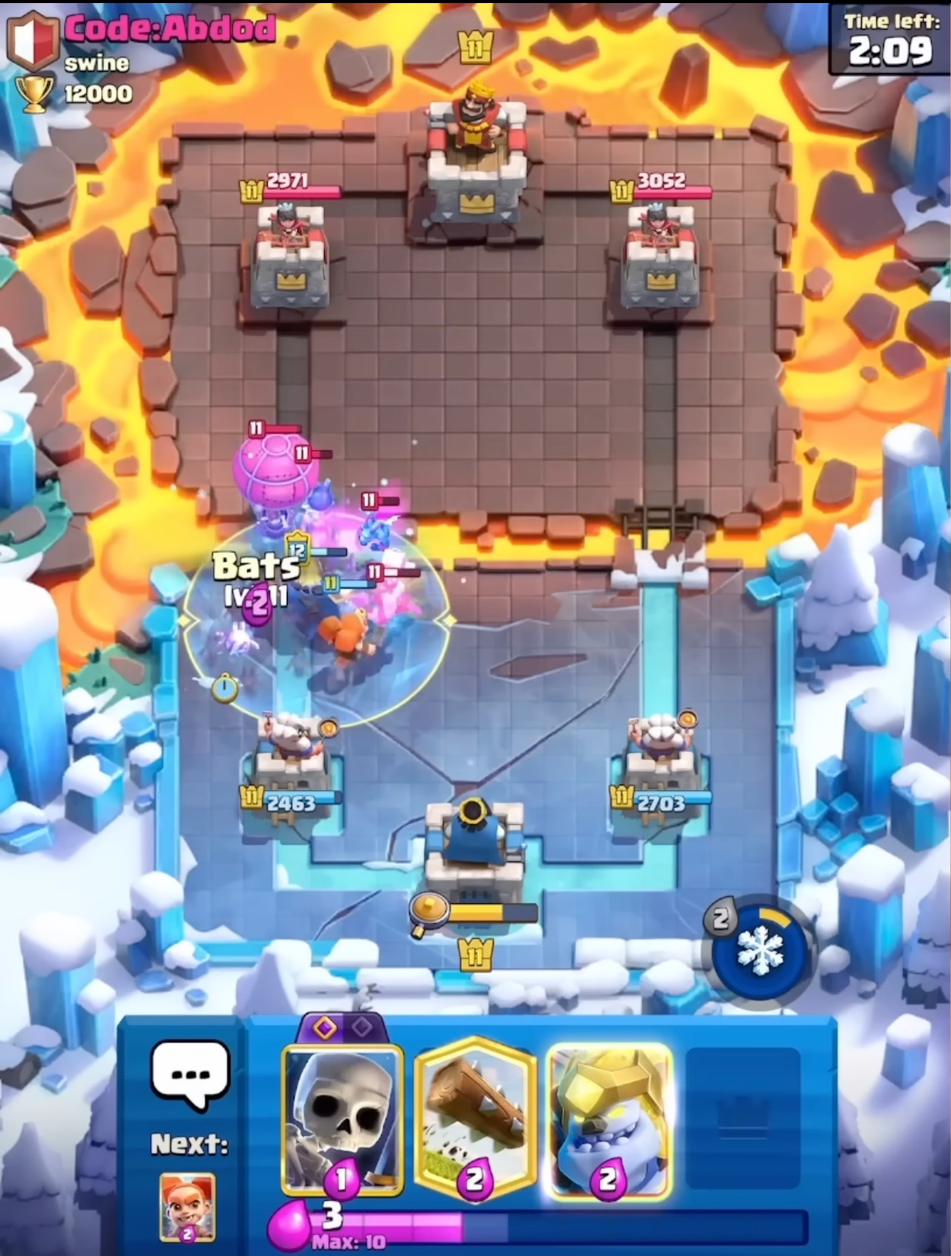hero-ice-golem: (281, 536, 354, 637)
